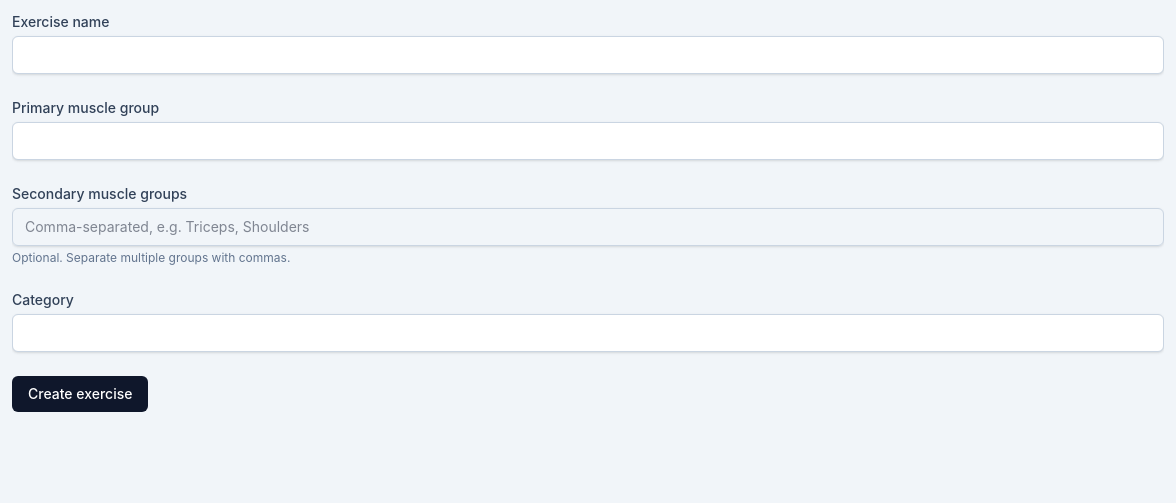
Test case: ExerciseForm › validates required fields on the client
Click the button "Create exercise".
click(80, 394)  # box [12, 376, 148, 412]
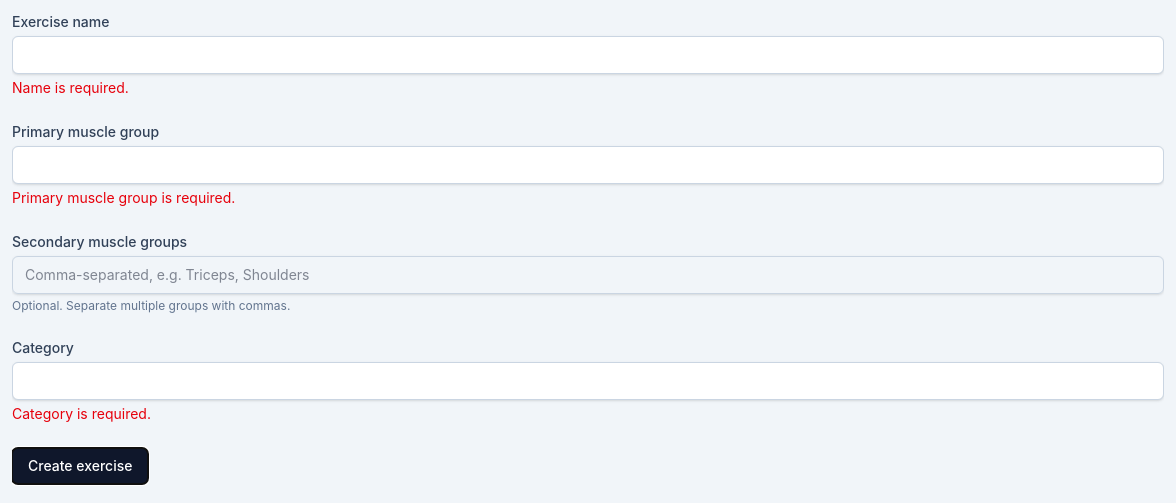
Expected: the text "Name is required." is shown, [12, 79, 129, 96]
Expected: the text "Primary muscle group is required." is shown, [12, 189, 235, 206]
Expected: the text "Category is required." is shown, [12, 405, 151, 422]
